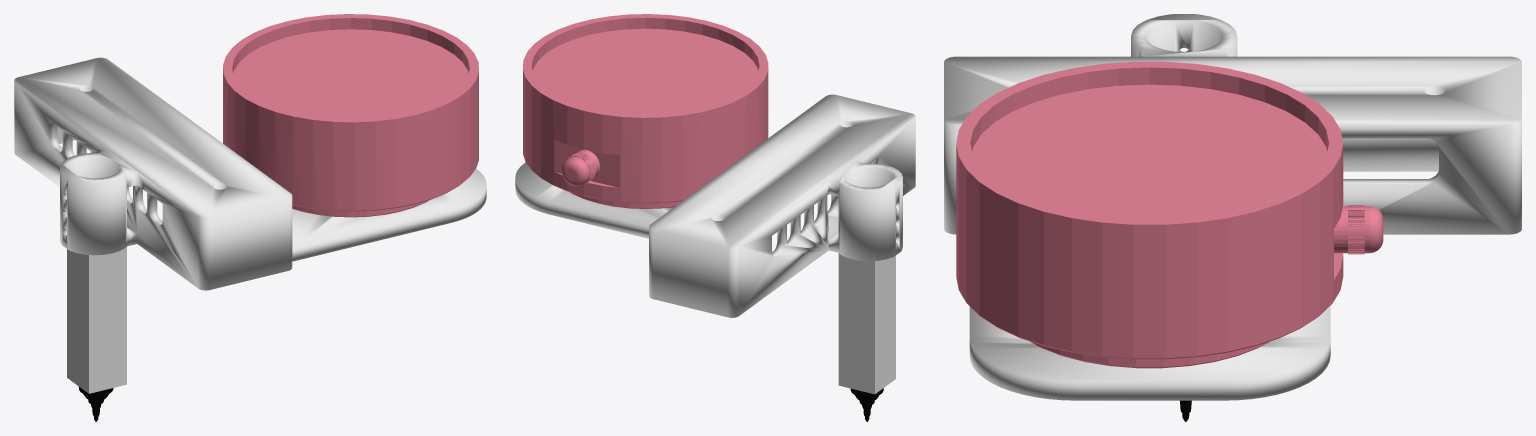
The picture shows the model from 3 angles, left to right: view 1: azimuth 30°, elevation 25°; view 2: azimuth 150°, elevation 25°; view 3: azimuth 270°, elevation 25°; orthographic projection. The views are drawn at different scales.
Parts seen in each view (by area): view 1: intel435i_dobot_cr5-2.001, Link6.002, Cube, Cylinder_nip part_0; view 2: intel435i_dobot_cr5-2.001, Link6.002, Cube, Cylinder_nip part_0; view 3: Link6.002, intel435i_dobot_cr5-2.001.
Boxes of the visible parts, x1,y1,x2,y2 form: intel435i_dobot_cr5-2.001: (14,57,486,290); Link6.002: (223,14,478,217); Cube: (67,247,126,393); Cylinder_nip part_0: (78,386,113,421); intel435i_dobot_cr5-2.001: (515,94,915,317); Link6.002: (523,14,768,208); Cube: (838,253,895,394); Cylinder_nip part_0: (850,388,883,421); Link6.002: (956,61,1383,368); intel435i_dobot_cr5-2.001: (944,14,1521,400).
Bounding box in the file's own units: 0.1421 × 0.1224 × 0.107.
